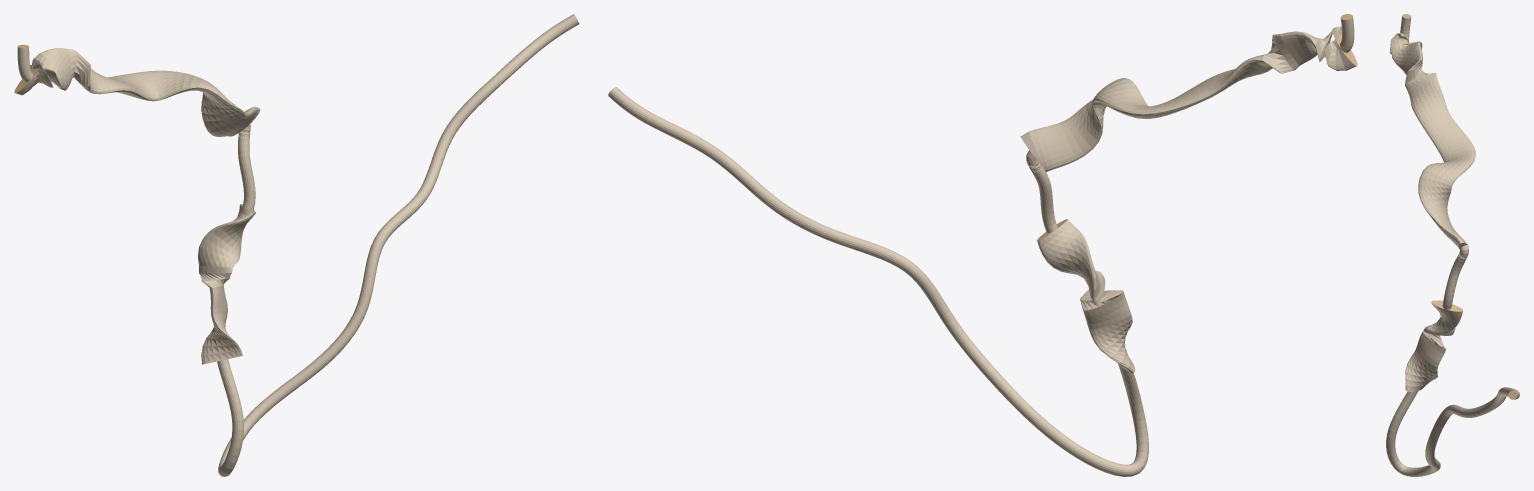
Rendered from SheetfCoil.dae.
3 renders of one model, left to right at view 1: azimuth 30°, elevation 25°; view 2: azimuth 150°, elevation 25°; view 3: azimuth 270°, elevation 25°, orthographic. The views are drawn at different scales.
Visible parts, largest first — view 1: Shape_IndexedTriangleStripSet_023; view 2: Shape_IndexedTriangleStripSet_023; view 3: Shape_IndexedTriangleStripSet_023.
Boxes of the visible parts, left/top/right/bottom form: Shape_IndexedTriangleStripSet_023: left=14, top=14, right=579, bottom=476; Shape_IndexedTriangleStripSet_023: left=608, top=14, right=1357, bottom=476; Shape_IndexedTriangleStripSet_023: left=1386, top=14, right=1519, bottom=476.
Size of the model in its own units: 31.18 by 7.18 by 22.58.
